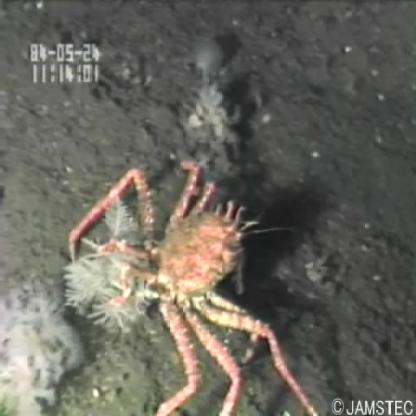Bio: (57, 152, 322, 415)
